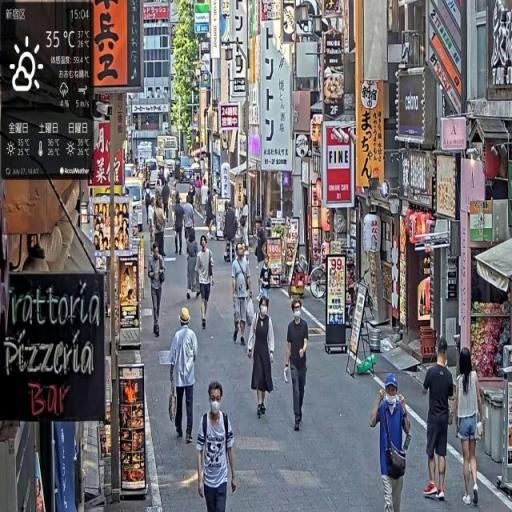person: (370, 373, 413, 512), (197, 378, 239, 512), (424, 340, 456, 503), (455, 347, 484, 509), (168, 305, 199, 447), (285, 295, 311, 436), (248, 293, 277, 419), (231, 240, 254, 349), (196, 237, 216, 330), (149, 242, 168, 337), (152, 199, 168, 268), (186, 226, 200, 302), (175, 196, 188, 259), (241, 195, 252, 254)
